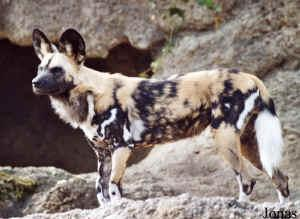African_hunting_dog: (29, 25, 293, 209)
